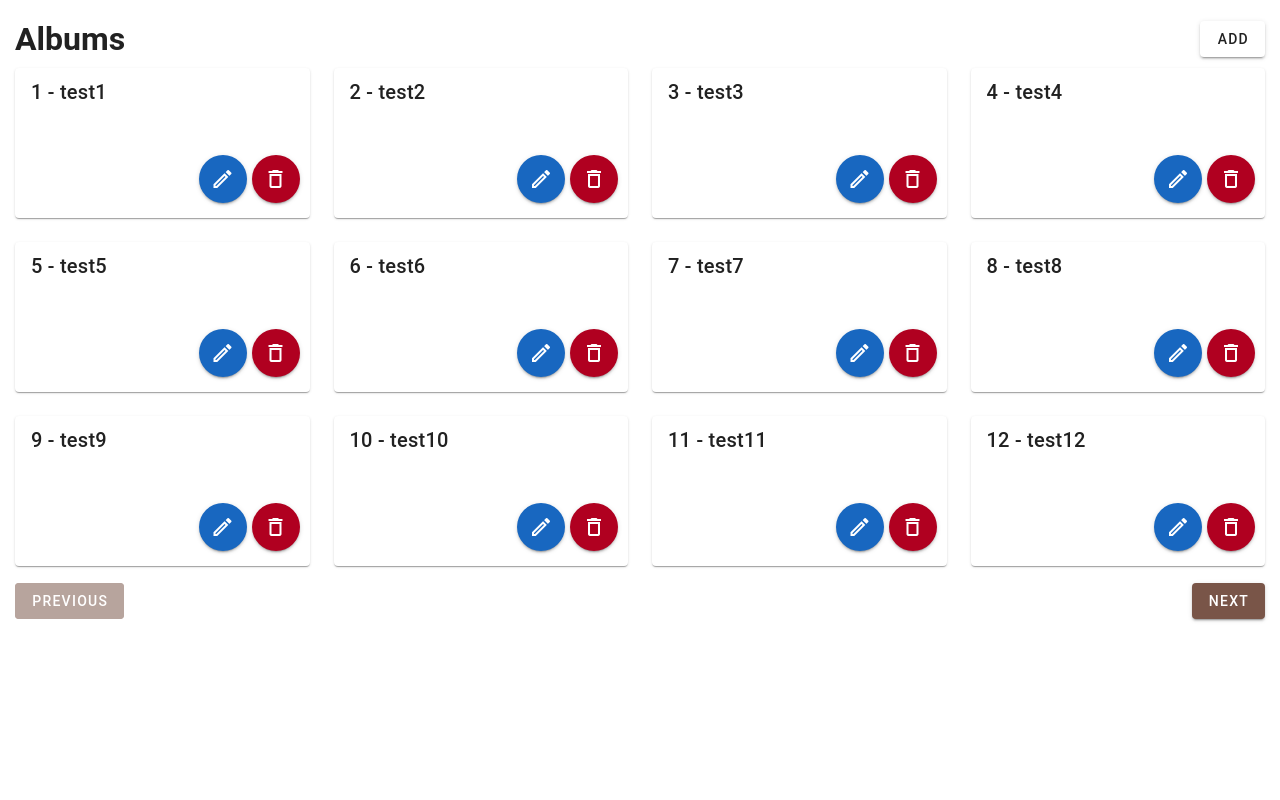
Test case: AlbumsDisplay › pagination size tests › button should disable when an empty array is returned after next page click, end of pagination with pagination a multiple of albums list size
Click the button with test id "next-page-button" at (1228, 601), box [1192,583,1265,619]
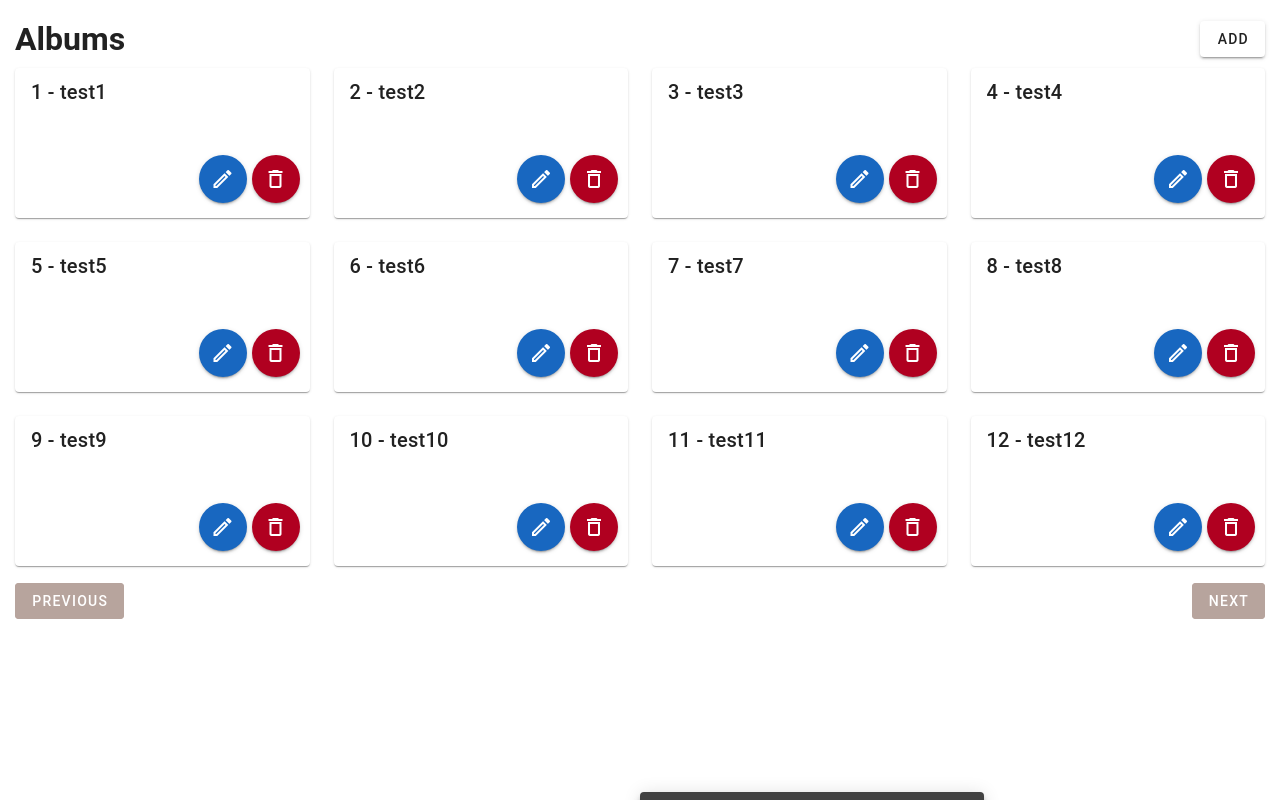
Expected: the button with test id "next-page-button" is disabled, [1192,583,1265,619]
